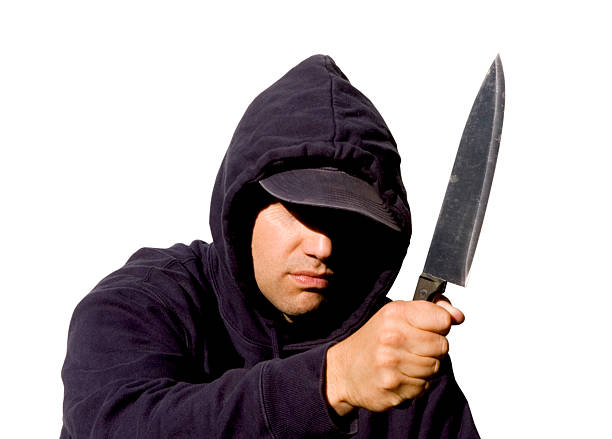knife: (412, 52, 509, 304)
